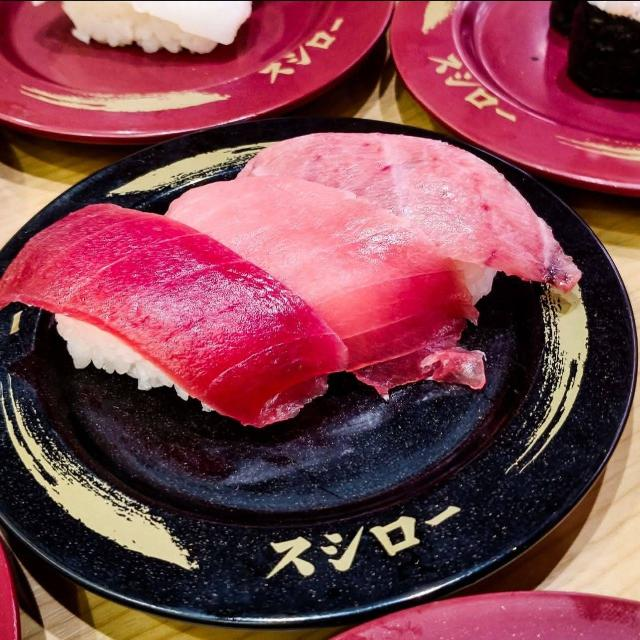janback: (0, 346, 429, 609), (396, 388, 640, 592)
